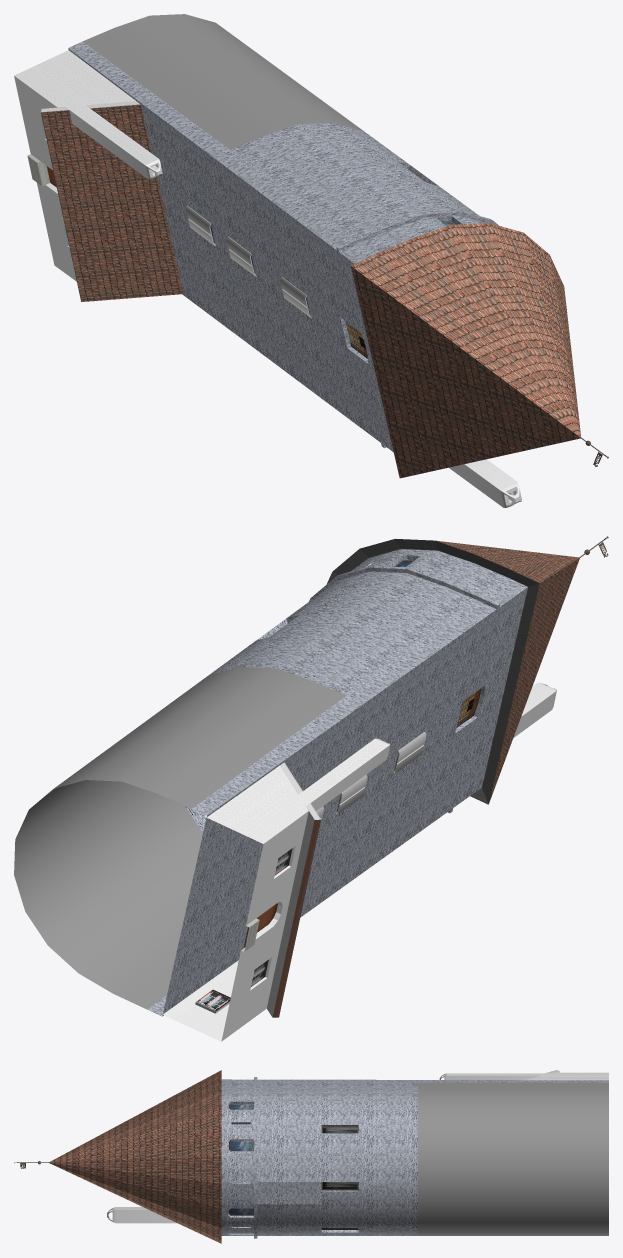
Rendered from Myyrivahe_58.obj.
3 views of the same model, one above another, from view 1: azimuth 30°, elevation 25°; view 2: azimuth 150°, elevation 25°; view 3: azimuth 270°, elevation 25° (orthographic). The views are drawn at different scales.
Parts seen in each view (by area): view 1: myv_60, xxx; view 2: myv_60, xxx; view 3: myv_60, xxx.
Part boxes in pixels (x1=…): myv_60: x1=14, y1=41, x2=608, y2=507; xxx: x1=14, y1=14, x2=363, y2=165; myv_60: x1=147, y1=536, x2=608, y2=1041; xxx: x1=14, y1=666, x2=389, y2=1009; myv_60: x1=14, y1=1070, x2=608, y2=1243; xxx: x1=418, y1=1072, x2=608, y2=1235.
Size of the model in its own units: 11.31 by 9.84 by 34.18.
